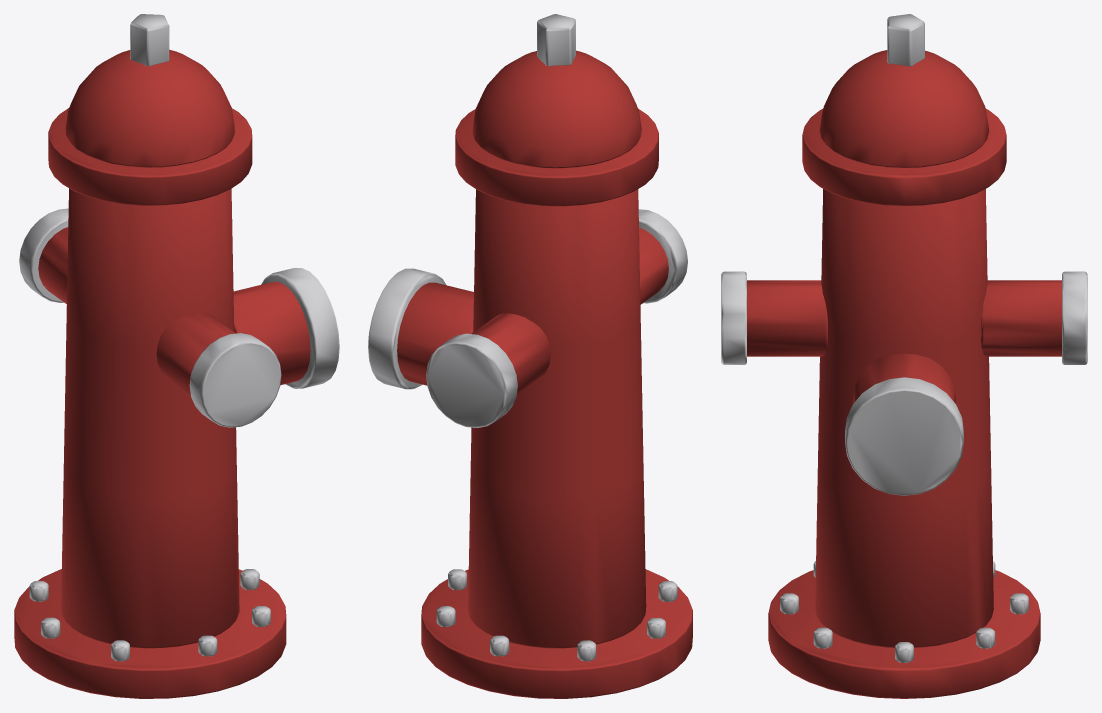
The model's file is SM_VB_Hydrant_A.fbx.
3 views of the same model, side by side, from view 1: azimuth 30°, elevation 25°; view 2: azimuth 150°, elevation 25°; view 3: azimuth 270°, elevation 25° (orthographic).
Visible parts, largest first — view 1: SM_VB_Hydrant_A; view 2: SM_VB_Hydrant_A; view 3: SM_VB_Hydrant_A.
Boxes of the visible parts, x1,y1,x2,y2 form: SM_VB_Hydrant_A: (14,14,339,698); SM_VB_Hydrant_A: (368,14,692,698); SM_VB_Hydrant_A: (721,14,1087,698).
Size of what is drawn, in the model's own units: 0.3775 by 0.805 by 0.43.
